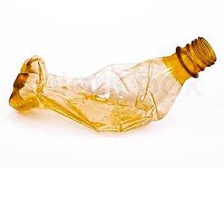bottle: (5, 31, 219, 144)
